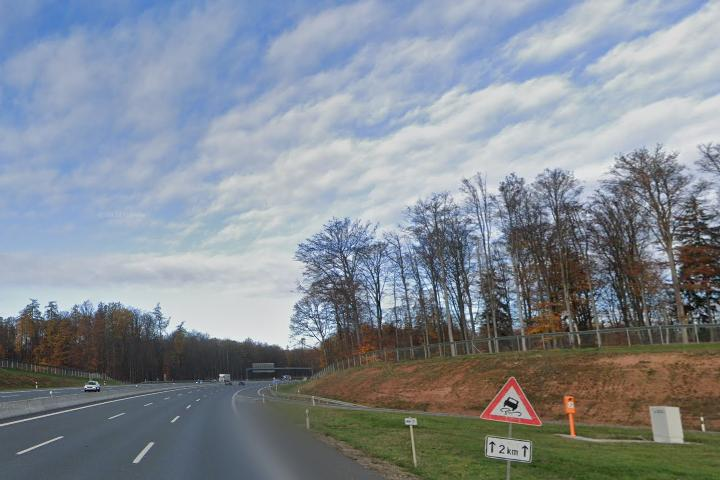traffic_sign: (480, 375, 542, 426)
vehicle: (81, 379, 102, 392)
